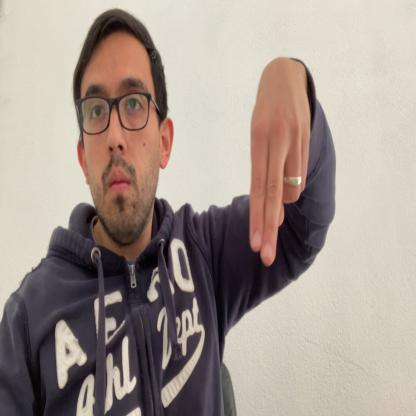N: (249, 58, 312, 268)
